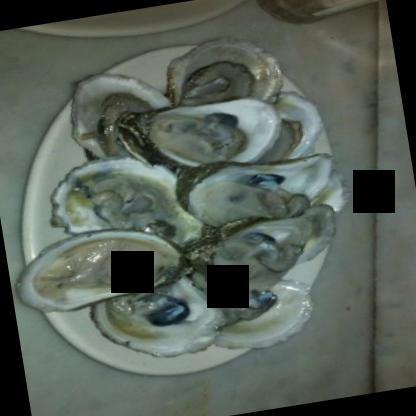oyster: (46, 145, 204, 264), (8, 220, 189, 318), (180, 146, 344, 233), (140, 90, 288, 180), (67, 62, 182, 168), (96, 272, 221, 369), (162, 30, 284, 117), (208, 272, 317, 354), (214, 219, 312, 296)
